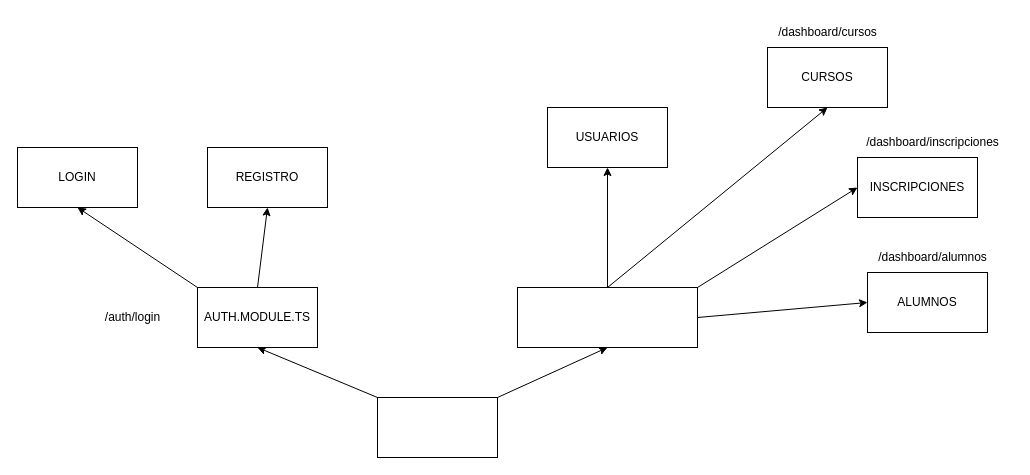
Image size: 1030x475. Some labels were removed from this diagram. Each missing label, with the centre of its shape:
APP.MODULE.TS: (x=437, y=427)
DASHBOARD.MODULE.TS: (x=607, y=317)
